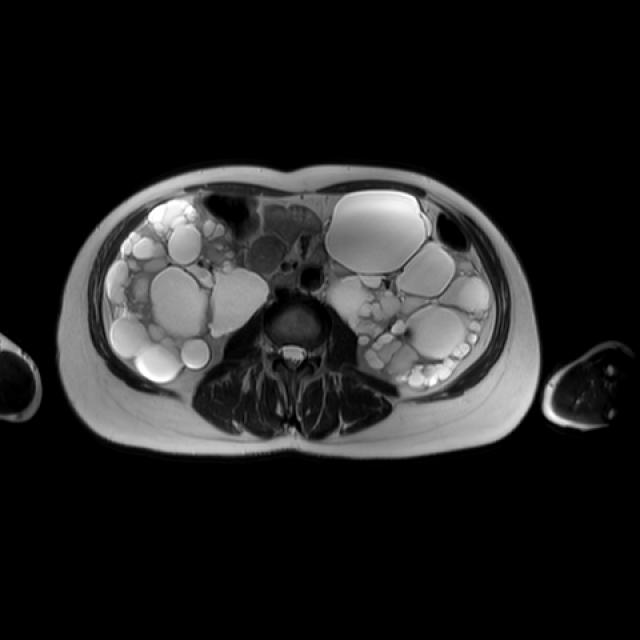sag: (108, 198, 267, 381)
sol: (326, 188, 490, 388)
